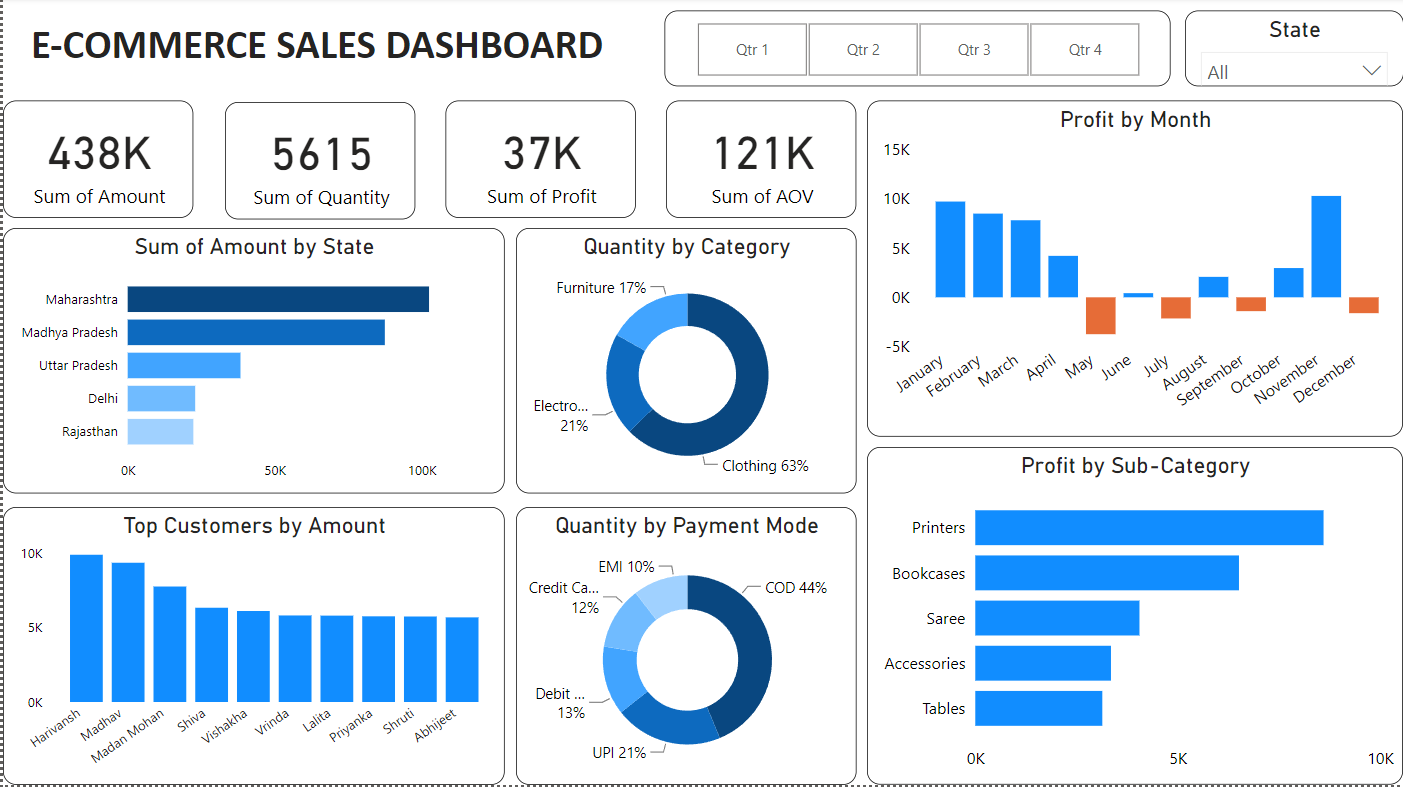

What the dashboard file says about the page in this screenshot:
{"tool":"powerbi","page":{"name":"Page 1","canvas":[1280,720],"ordinal":0},"visuals":[{"type":"textbox","box":[21.2,15.1,556.8,63.5],"z":0},{"type":"columnChart","title":"Profit by Month","fields":{"Category":["Orders.Order Date.Variation.Date Hierarchy.Month"],"Y":["Details.Profit"]},"box":[790,94.3,490,307.1],"z":1000},{"type":"barChart","title":"Profit by Sub-Category","fields":{"Y":["Details.Profit"],"Category":["Details.Sub-Category"]},"box":[790,411.4,490,308.6],"z":2000},{"type":"donutChart","title":"Quantity by Category","fields":{"Y":["Details.Quantity"],"Category":["Details.Category"]},"box":[468.6,211.4,311.4,242.9],"z":3000},{"type":"card","title":"Quantity by Payment Mode","fields":{"Values":["Details.Amount"]},"box":[0,94.3,174.3,107.1],"z":4000},{"type":"card","title":"Quantity by Payment Mode","fields":{"Values":["Details.Quantity"]},"box":[202.9,95.7,174.3,107.1],"z":5000},{"type":"card","title":"Quantity by Payment Mode","fields":{"Values":["Details.Profit"]},"box":[404.3,94.3,174.3,107.1],"z":6000},{"type":"card","title":"Quantity by Payment Mode","fields":{"Values":["Details.Avg_Order_Value"]},"box":[605.7,94.3,174.3,107.1],"z":7000},{"type":"barChart","title":"Sum of Amount by State","fields":{"Y":["Details.Amount"],"Category":["Orders.State"]},"box":[0,211.4,458.6,242.9],"z":8000},{"type":"columnChart","title":"Top Customers by Amount","fields":{"Category":["Orders.CustomerName"],"Y":["Details.Amount"]},"box":[0,465.7,458.6,254.3],"z":9000},{"type":"donutChart","title":"Quantity by Payment Mode","fields":{"Category":["Details.PaymentMode"],"Y":["Details.Quantity"]},"box":[468.6,465.7,311.4,254.3],"z":10000},{"type":"slicer","fields":{"Values":["Orders.Order Date.Variation.Date Hierarchy.Quarter"]},"box":[605.2,12.1,463,69.6],"z":10001},{"type":"slicer","title":"State","fields":{"Values":["Orders.State"]},"box":[1080.3,12.1,199.7,69.6],"z":10002}]}

Visuals, with their boxes in screenshot pixels (x1, y1, x2, y2), scaled from the page's 1280x720 canvas onto the 1403x787 screenshot:
textbox: 23:17:634:86
"Profit by Month" columnChart: 866:103:1402:439
"Profit by Sub-Category" barChart: 866:450:1402:786
"Quantity by Category" donutChart: 514:231:855:497
"Quantity by Payment Mode" card: 0:103:191:220
"Quantity by Payment Mode" card: 222:105:413:222
"Quantity by Payment Mode" card: 443:103:634:220
"Quantity by Payment Mode" card: 664:103:855:220
"Sum of Amount by State" barChart: 0:231:503:497
"Top Customers by Amount" columnChart: 0:509:503:786
"Quantity by Payment Mode" donutChart: 514:509:855:786
slicer - Orders.Order Date.Variation.Date Hierarchy.Quarter: 663:13:1171:89
"State" slicer: 1184:13:1402:89
